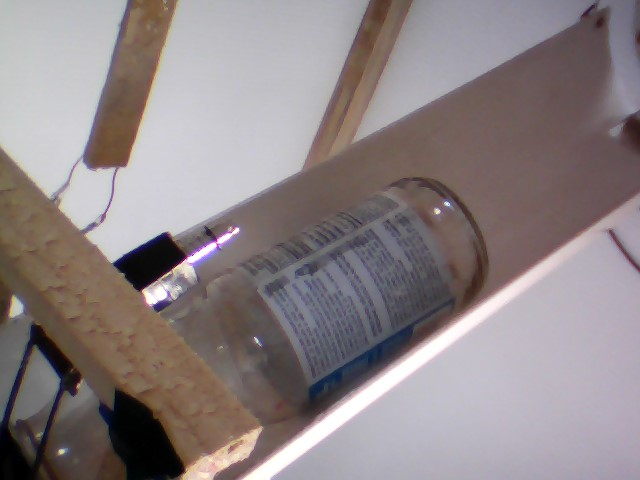vidrio: (178, 171, 497, 431)
